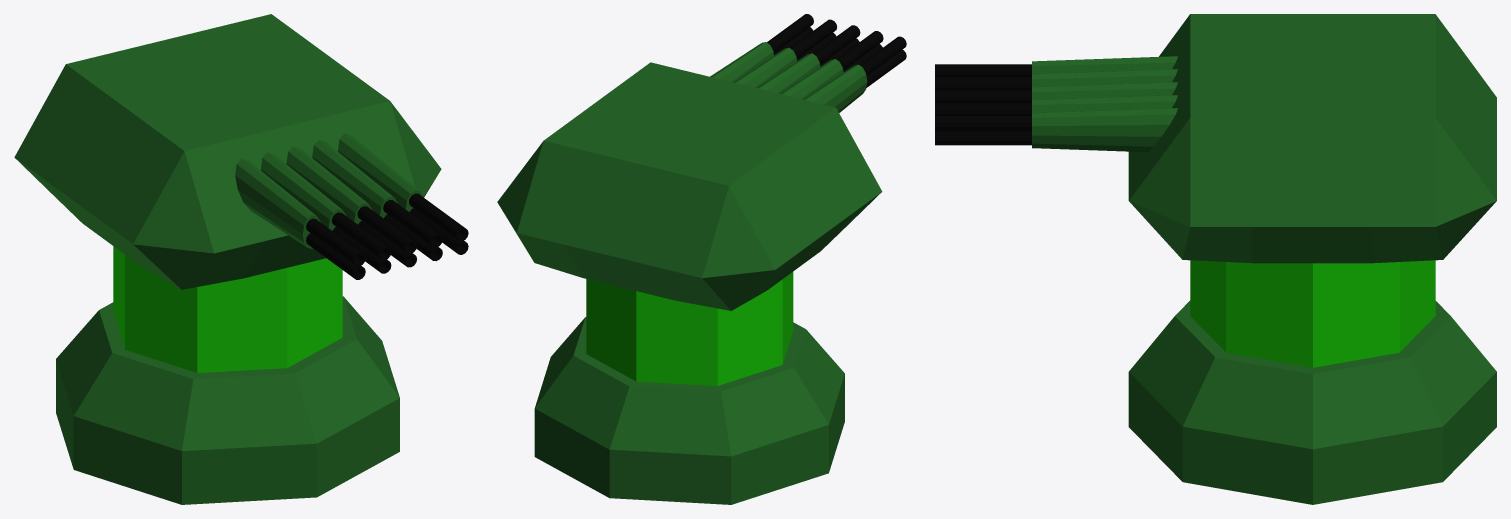
Rendered from Turret3_1.glb.
3 views of the same model, side by side, from view 1: azimuth 30°, elevation 25°; view 2: azimuth 150°, elevation 25°; view 3: azimuth 270°, elevation 25° (orthographic). The views are drawn at different scales.
Parts seen in each view (by area): view 1: TurretUpgradePath3_1; view 2: TurretUpgradePath3_1; view 3: TurretUpgradePath3_1.
Boxes of the visible parts, bbox=[...] form: TurretUpgradePath3_1: bbox=[14, 14, 468, 504]; TurretUpgradePath3_1: bbox=[497, 14, 906, 504]; TurretUpgradePath3_1: bbox=[935, 14, 1496, 504].
Size of the model in its own units: 3 by 3.25 by 4.58.
